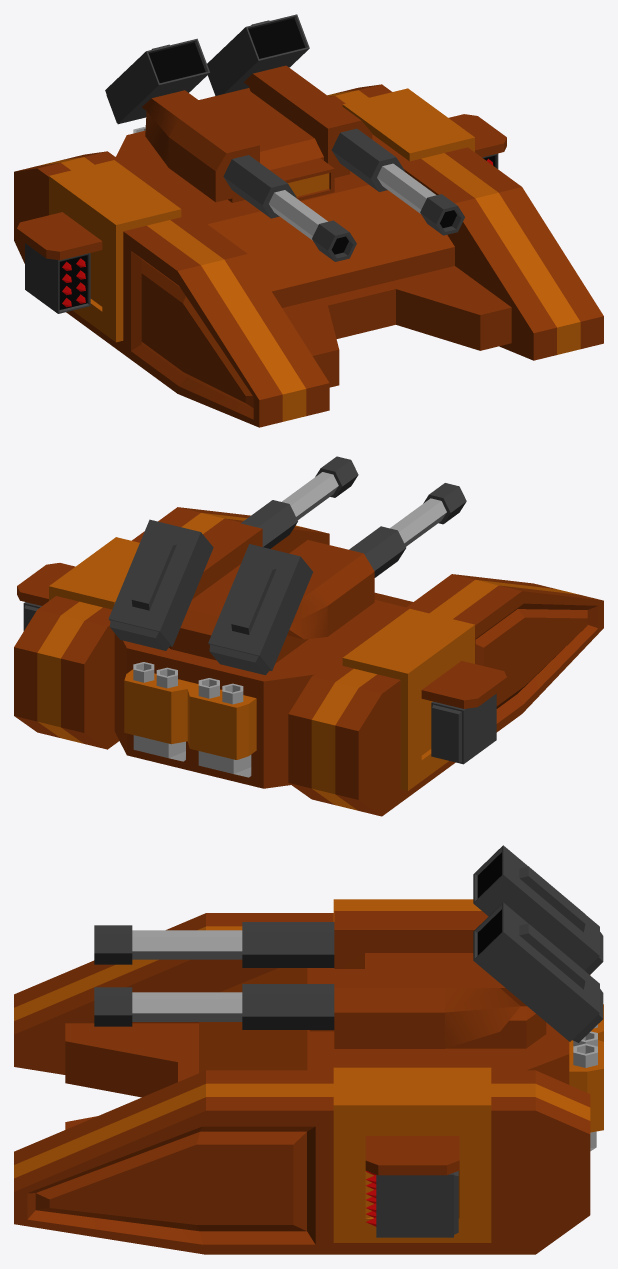
The model's file is boss02.fbx.
The picture shows the model from 3 angles, top to bottom: view 1: azimuth 30°, elevation 25°; view 2: azimuth 150°, elevation 25°; view 3: azimuth 270°, elevation 25°; orthographic projection. The views are drawn at different scales.
Visible parts, largest first — view 1: bossTrackLeft1, bossBody, BossGuns, bossTrackLeft, BossSponsonRight, BossArtillery, BossSponsonLeft, BossTurret, BossMissileLauncherRight; view 2: bossTrackLeft1, BossArtillery, bossTrackLeft, BossGuns, bossBody, BossSponsonRight, bossExhaust, BossSponsonLeft, BossMissileLauncherRight, BossTurret; view 3: bossTrackLeft, BossGuns, BossSponsonLeft, bossBody, BossArtillery, bossTrackLeft1, BossMissileLauncherLeft, BossTurret, bossExhaust, BossSponsonRight.
Boxes of the visible parts, <box> form: bossTrackLeft1: <box>14,151,329,427</box>; bossBody: <box>116,130,511,387</box>; BossGuns: <box>141,65,464,261</box>; bossTrackLeft: <box>327,84,603,360</box>; BossSponsonRight: <box>17,160,181,342</box>; BossArtillery: <box>105,14,309,124</box>; BossSponsonLeft: <box>342,88,506,161</box>; BossTurret: <box>199,88,350,202</box>; BossMissileLauncherRight: <box>25,243,90,313</box>; bossTrackLeft1: <box>288,574,603,816</box>; BossArtillery: <box>108,519,312,675</box>; bossTrackLeft: <box>14,507,329,749</box>; BossGuns: <box>192,456,466,639</box>; bossBody: <box>114,540,412,788</box>; BossSponsonRight: <box>342,609,506,790</box>; bossExhaust: <box>124,662,256,777</box>; BossSponsonLeft: <box>17,537,139,609</box>; BossMissileLauncherRight: <box>431,693,496,764</box>; BossTurret: <box>169,559,308,663</box>; bossTrackLeft: <box>14,1070,590,1254</box>; BossGuns: <box>94,911,526,1048</box>; BossSponsonLeft: <box>333,1067,491,1242</box>; bossBody: <box>65,968,569,1129</box>; BossArtillery: <box>473,845,603,1042</box>; bossTrackLeft1: <box>14,913,333,1074</box>; BossMissileLauncherLeft: <box>376,1171,458,1237</box>; BossTurret: <box>309,953,546,1048</box>; bossExhaust: <box>569,1004,603,1151</box>; BossSponsonRight: <box>333,899,481,921</box>.
Size of the model in its own units: 13.55 by 6.38 by 12.79.
